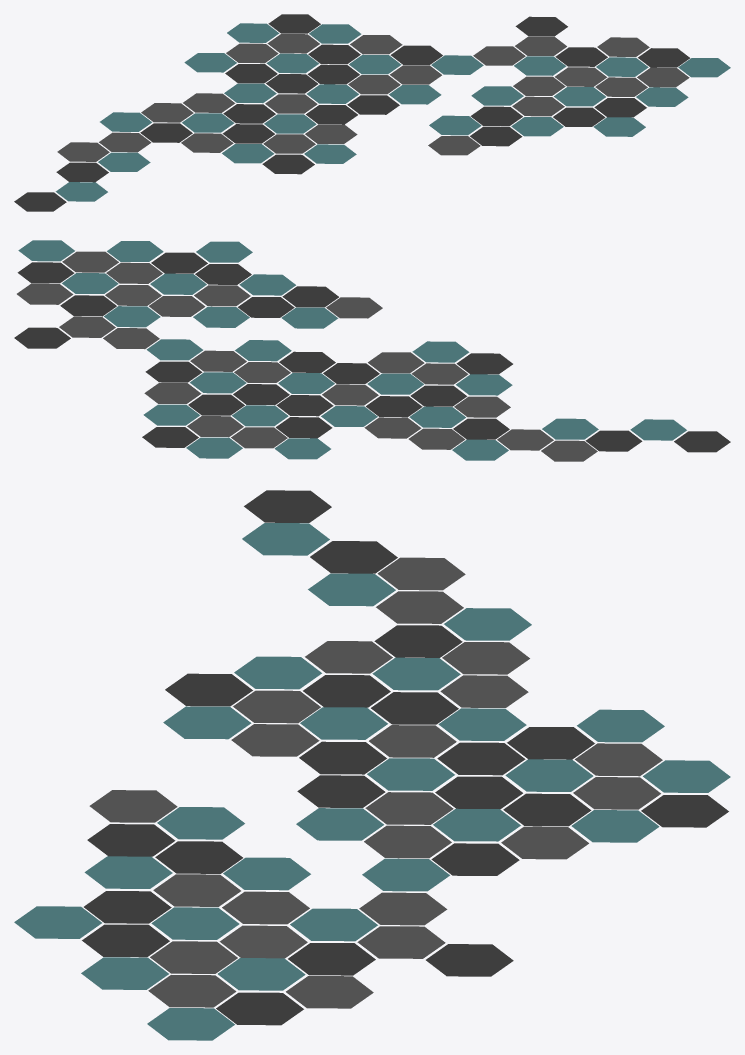
Rendered from W_O_Deco_Add_001_L3.fbx.
3 renders of one model, top to bottom at view 1: azimuth 30°, elevation 25°; view 2: azimuth 150°, elevation 25°; view 3: azimuth 270°, elevation 25°, orthographic. The views are drawn at different scales.
Parts seen in each view (by area): view 1: W_O_Deco_Add_001_L3; view 2: W_O_Deco_Add_001_L3; view 3: W_O_Deco_Add_001_L3.
Boxes of the visible parts, left/top/right/bottom form: W_O_Deco_Add_001_L3: left=14, top=14, right=730, bottom=211; W_O_Deco_Add_001_L3: left=14, top=240, right=730, bottom=461; W_O_Deco_Add_001_L3: left=14, top=490, right=730, bottom=1040.
Size of the model in its own units: 6.56 by 0.005 by 3.61.
